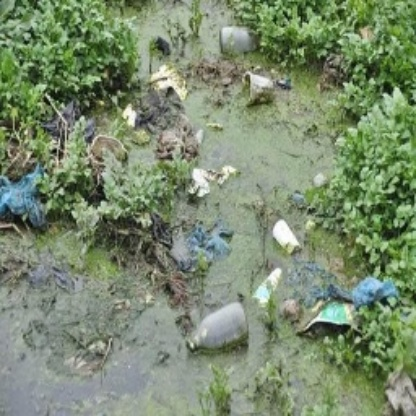bottle: (186, 297, 252, 359), (254, 263, 282, 307)
plastic-bag: (296, 257, 389, 307)
